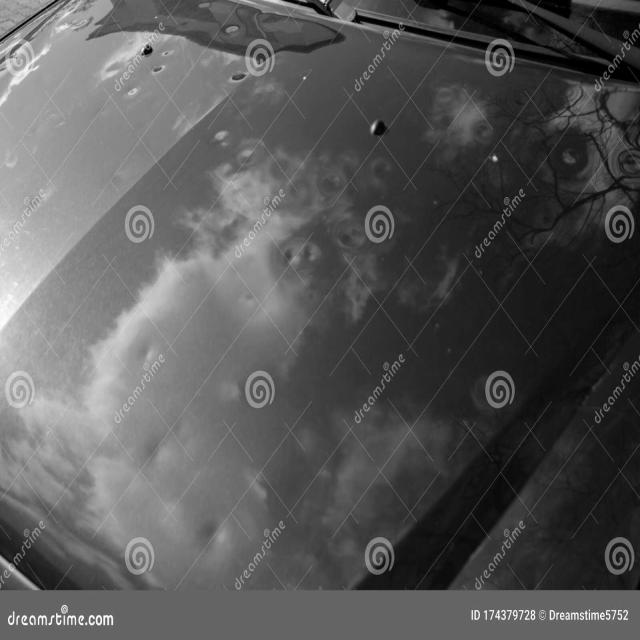dent: (192, 511, 235, 559), (142, 427, 180, 465), (281, 239, 319, 274), (131, 339, 159, 369)
